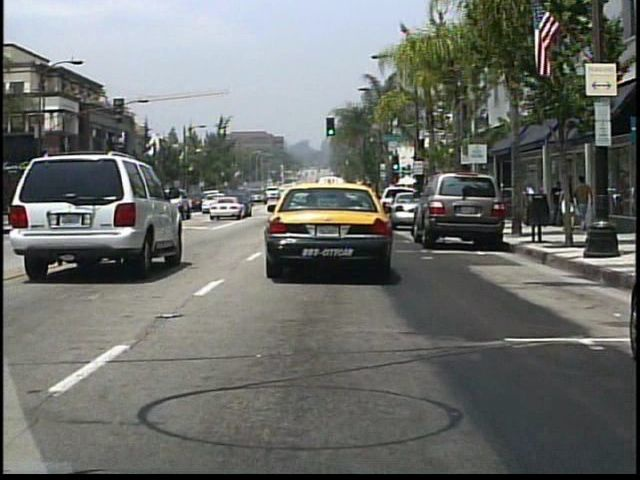person: (574, 172, 591, 231), (561, 177, 579, 232), (549, 177, 566, 227)
